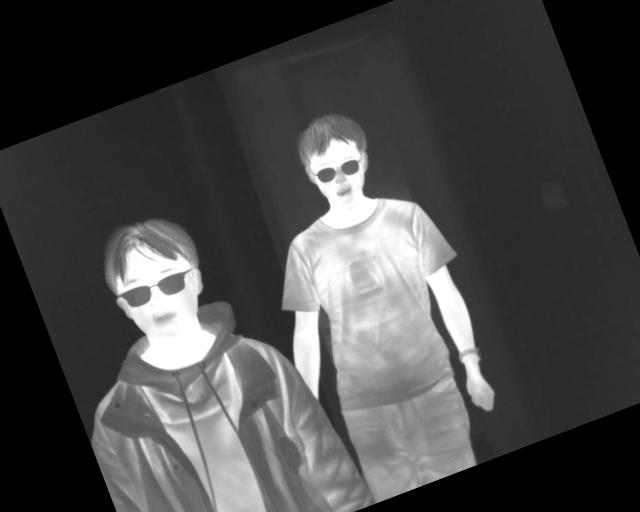face: (88, 203, 223, 353), (288, 104, 384, 215)
